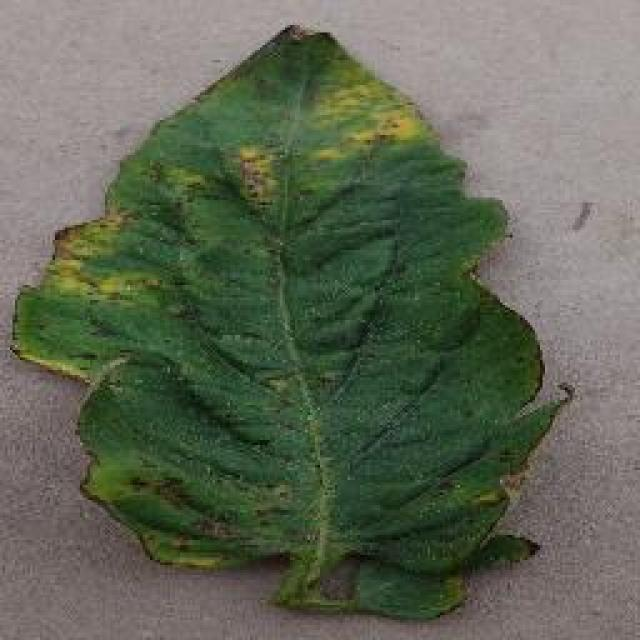Tomato bacterial spot leaf: (6, 16, 578, 622)
